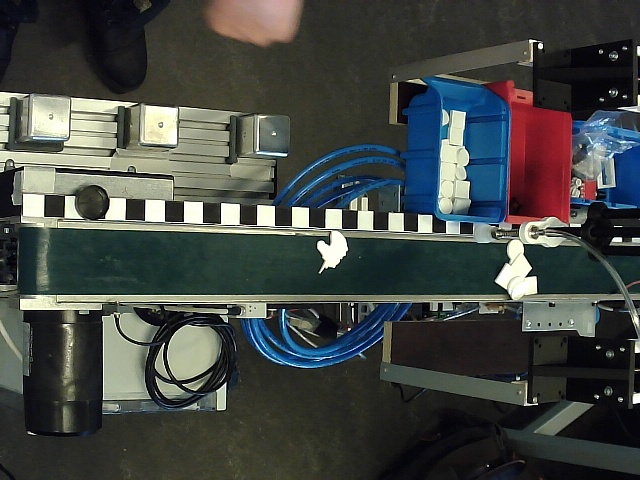unicorn: (316, 231, 349, 274)
